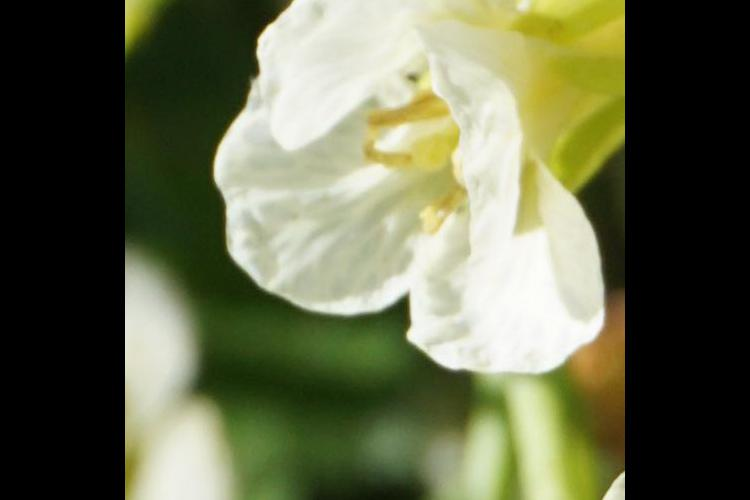white: (227, 1, 595, 355)
